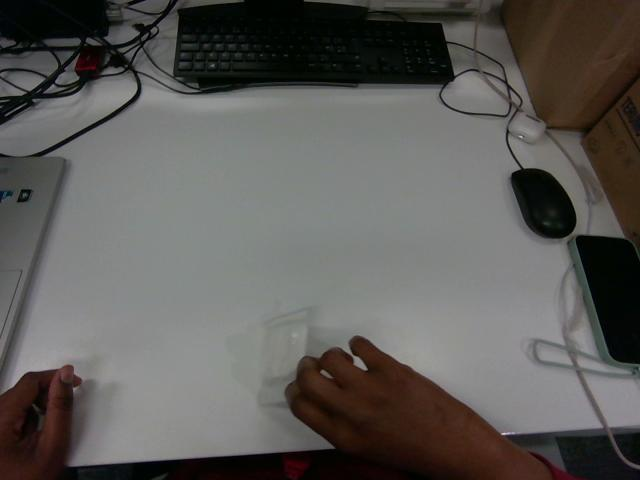gauze: (258, 310, 307, 404)
